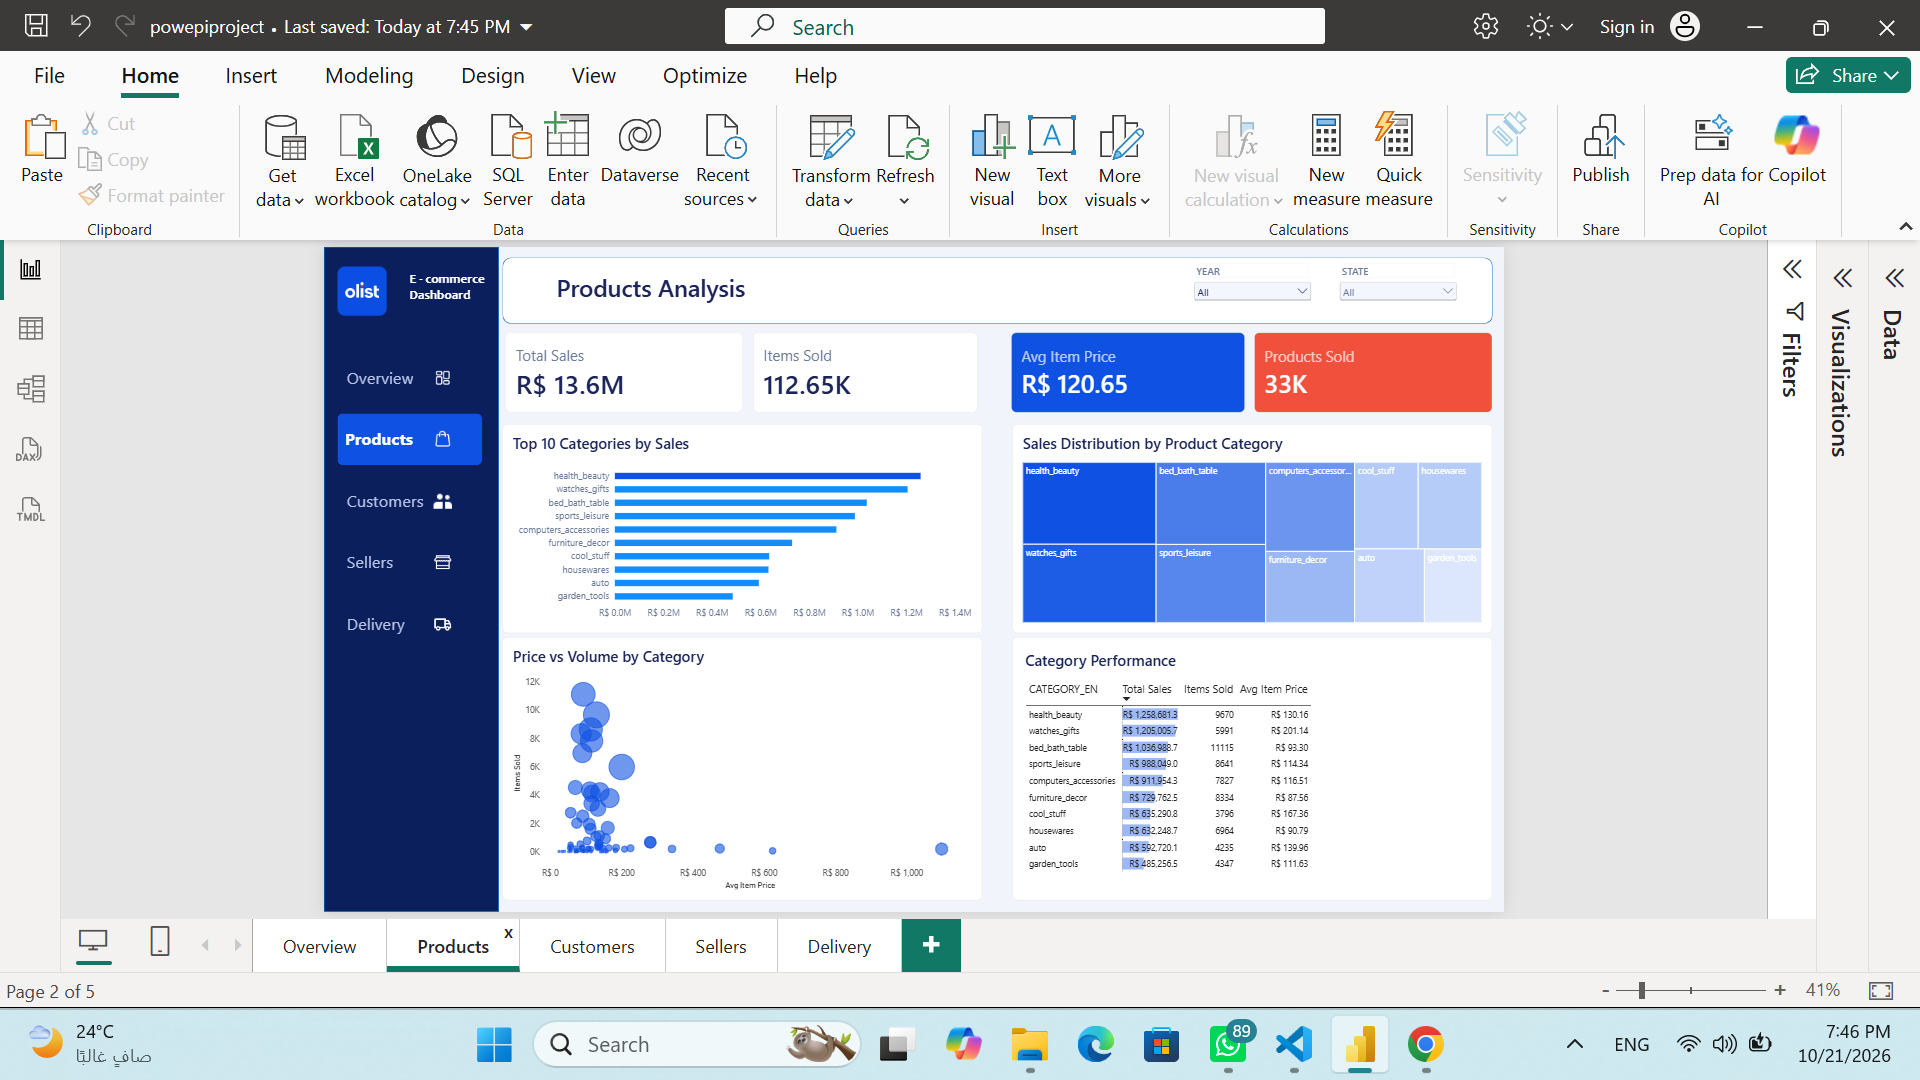

Layout of this report page (visuals, bound fields, positions):
{"tool":"powerbi","page":{"name":"Products","canvas":[1920,1080],"ordinal":1},"visuals":[{"type":"treemap","title":"Sales Distribution by Product Category","fields":{"Group":["DIM_PRODUCT.CATEGORY_EN"],"Values":["_Measures.Total Sales"]},"box":[1120,287.5,780,340],"z":0},{"type":"tableEx","title":"Category Performance","fields":{"Values":["DIM_PRODUCT.CATEGORY_EN","_Measures.Total Sales","_Measures.Items Sold","_Measures.Avg Item Price"]},"box":[1120,635,780,428],"z":1000},{"type":"clusteredBarChart","title":"Top 10 Categories by Sales","fields":{"Category":["DIM_PRODUCT.CATEGORY_EN"],"Y":["_Measures.Total Sales"]},"box":[290,287.5,780,340],"z":2000},{"type":"scatterChart","title":"Price vs Volume by Category","fields":{"Category":["DIM_PRODUCT.CATEGORY_EN"],"Size":["_Measures.Total Sales"],"X":["_Measures.Avg Item Price"],"Y":["_Measures.Items Sold"]},"box":[290,635,780,428],"z":3000},{"type":"shape","box":[289.1,17,1610.1,107.7],"z":4000},{"type":"textbox","title":"Products Analysis","box":[377,39.7,314.6,59.5],"z":5000},{"type":"slicer","fields":{"Values":["DIM_DATE.YEAR"]},"box":[1410,27.5,200,88],"z":6000},{"type":"slicer","fields":{"Values":["DIM_CUSTOMER.STATE"]},"box":[1647.5,27.5,200,88],"z":7000},{"type":"cardVisual","fields":{"Data":["_Measures.Items Sold"]},"box":[692.5,138,370,130],"z":8000},{"type":"cardVisual","fields":{"Data":["_Measures.Avg Item Price"]},"box":[1112.5,138,385,130],"z":9000},{"type":"cardVisual","fields":{"Data":["_Measures.Products Sold"]},"box":[1507.5,138,392.5,130],"z":10000},{"type":"cardVisual","fields":{"Data":["_Measures.Total Sales"]},"box":[289.1,138.9,390,130],"z":11000},{"type":"shape","box":[0,0,284,1080.8],"z":12000},{"type":"pageNavigator","box":[22.7,170,235.3,484.7],"z":13000},{"type":"image","box":[22.3,31.8,80,80],"z":14000},{"type":"image","box":[170,198,44,30],"z":15000},{"type":"image","box":[170,298,44,30],"z":16000},{"type":"image","box":[170,398,44,30],"z":17000},{"type":"image","box":[170,498,44,30],"z":18000},{"type":"image","box":[170,598,44,30],"z":19000},{"type":"textbox","title":"E - commerce Dashboard","box":[139.8,39.7,176.6,62],"z":20000}]}

Visuals, with their boxes on the page's 1920x1080 design canvas (x1, y1, x2, y2). These are canvas units, not pixel positions in the 1920x1080 screenshot, which may show the page scaled, cropped or inside an application window:
"Sales Distribution by Product Category" treemap: rect(1120, 288, 1900, 628)
"Category Performance" tableEx: rect(1120, 635, 1900, 1063)
"Top 10 Categories by Sales" clusteredBarChart: rect(290, 288, 1070, 628)
"Price vs Volume by Category" scatterChart: rect(290, 635, 1070, 1063)
shape: rect(289, 17, 1899, 125)
"Products Analysis" textbox: rect(377, 40, 692, 99)
slicer - DIM_DATE.YEAR: rect(1410, 28, 1610, 116)
slicer - DIM_CUSTOMER.STATE: rect(1648, 28, 1848, 116)
cardVisual - _Measures.Items Sold: rect(692, 138, 1062, 268)
cardVisual - _Measures.Avg Item Price: rect(1112, 138, 1498, 268)
cardVisual - _Measures.Products Sold: rect(1508, 138, 1900, 268)
cardVisual - _Measures.Total Sales: rect(289, 139, 679, 269)
shape: rect(0, 0, 284, 1081)
pageNavigator: rect(23, 170, 258, 655)
image: rect(22, 32, 102, 112)
image: rect(170, 198, 214, 228)
image: rect(170, 298, 214, 328)
image: rect(170, 398, 214, 428)
image: rect(170, 498, 214, 528)
image: rect(170, 598, 214, 628)
"E - commerce Dashboard" textbox: rect(140, 40, 316, 102)
